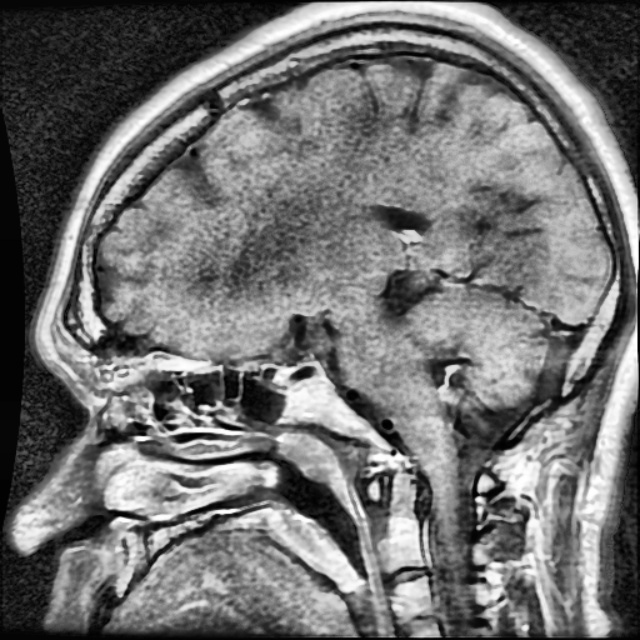Pituitary: (275, 363, 378, 442)
